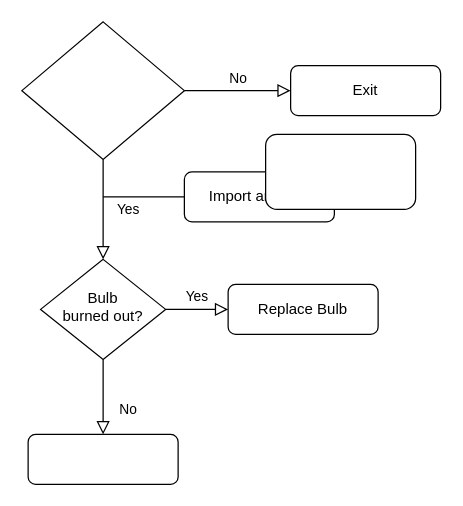
Image size: 463x506. Some labels were removed from this diagram. The centre of each missing label's shape, as x and y in pixels:
Do you want to play a game of Blackjack? Type 'y' or 'n':: pixel 102 90
Repair Lamp: pixel 102 458
